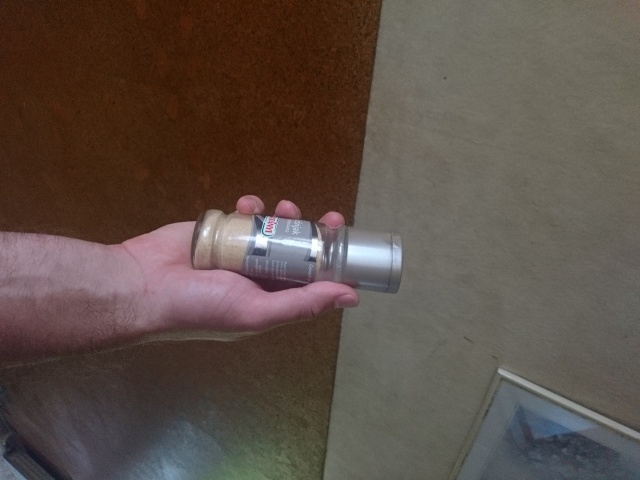Kotanyi Garlic Granules 70g: (188, 207, 405, 296)
